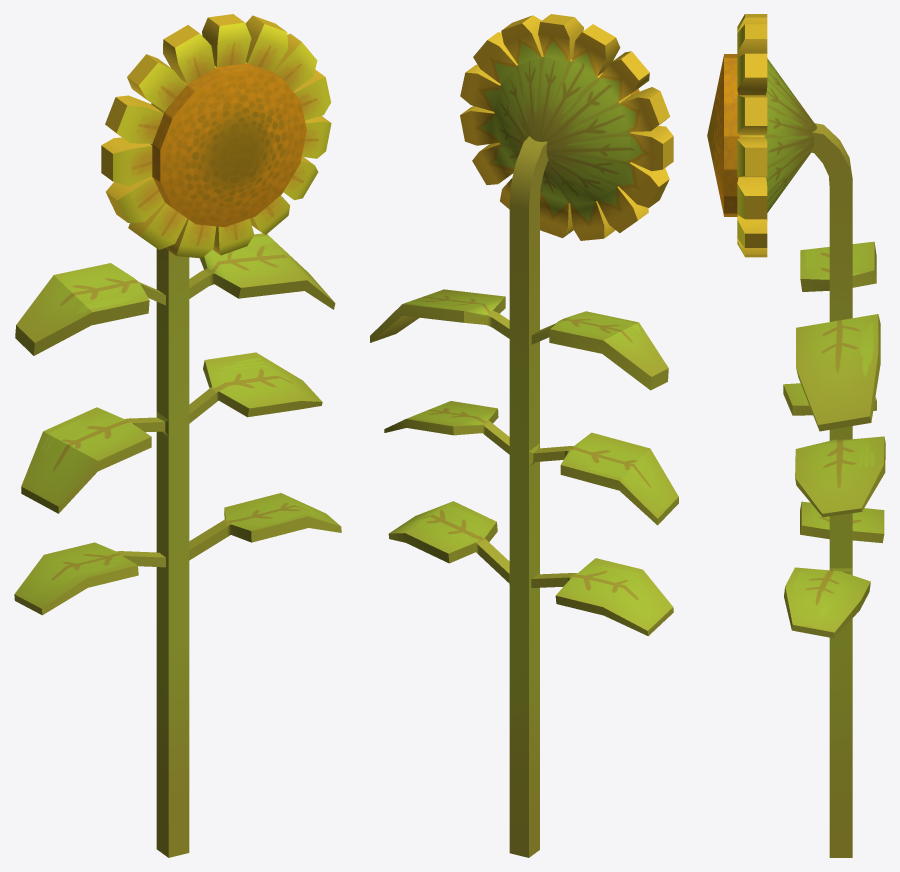
Rendered from maya2sketchfab.fbx.
3 renders of one model, left to right at view 1: azimuth 30°, elevation 25°; view 2: azimuth 150°, elevation 25°; view 3: azimuth 270°, elevation 25°, orthographic. The views are drawn at different scales.
Visible parts, largest first — view 1: pasted__polySurface67; view 2: pasted__polySurface67; view 3: pasted__polySurface67.
Boxes of the visible parts, <box> form: pasted__polySurface67: <box>14,14,341,857</box>; pasted__polySurface67: <box>370,14,678,857</box>; pasted__polySurface67: <box>707,14,885,857</box>.
Bounding box in the file's own units: 4.04 × 11.14 × 2.18.
Materials: 1 (1 with a texture image).
